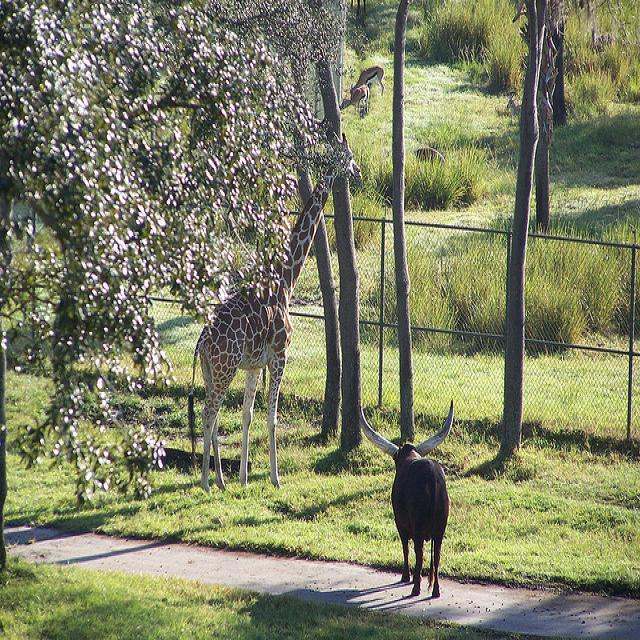cow: (359, 397, 453, 595)
